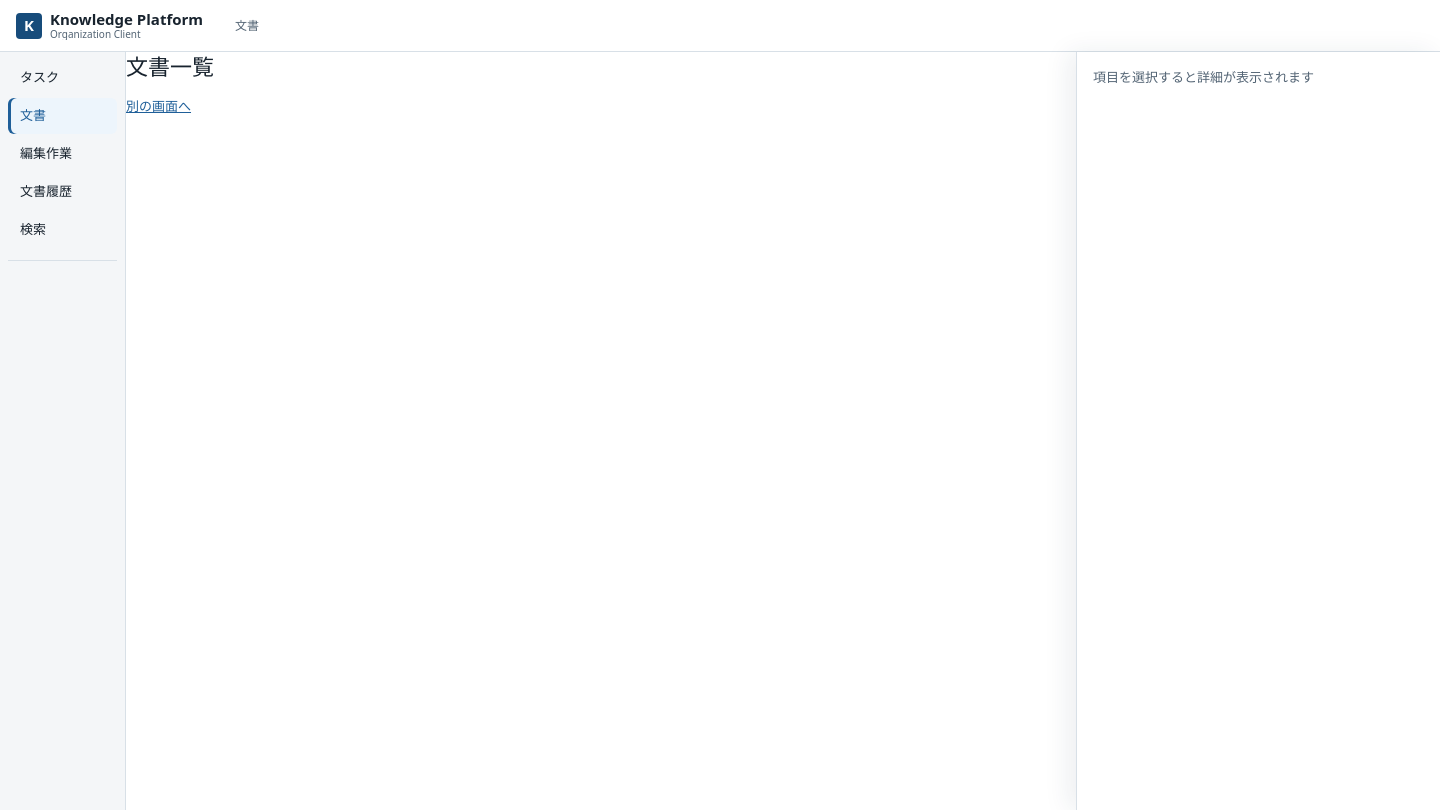
メニューのタスク・検索で移動でき、移動しても判定を取り直さない
The image size is (1440, 810).
Click the link "タスク". click: (40, 77)
box: [20, 68, 59, 86]
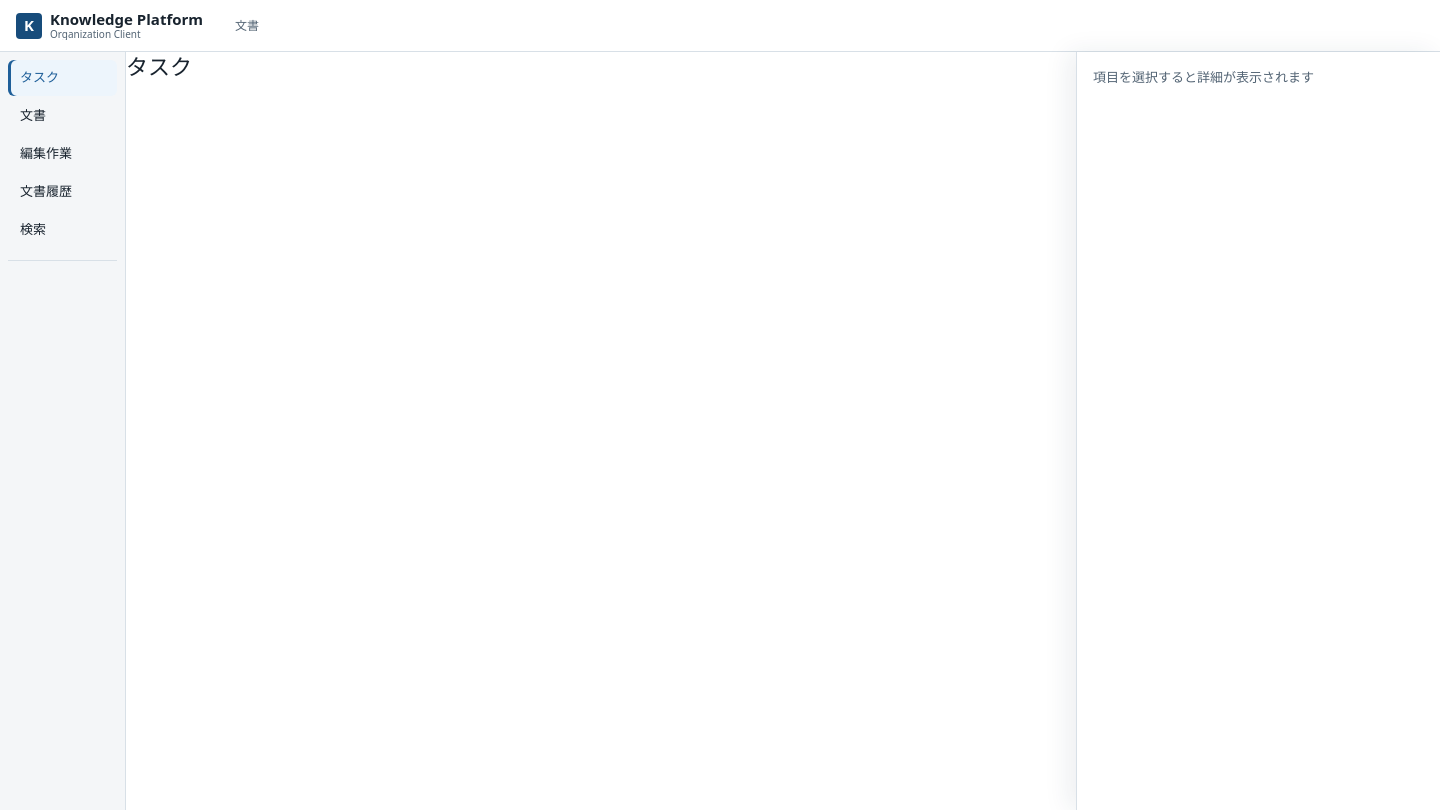
Expected: the heading "タスク" is shown, [126, 51, 192, 81]
Click the link "検索". click: (33, 229)
box: [20, 220, 46, 238]
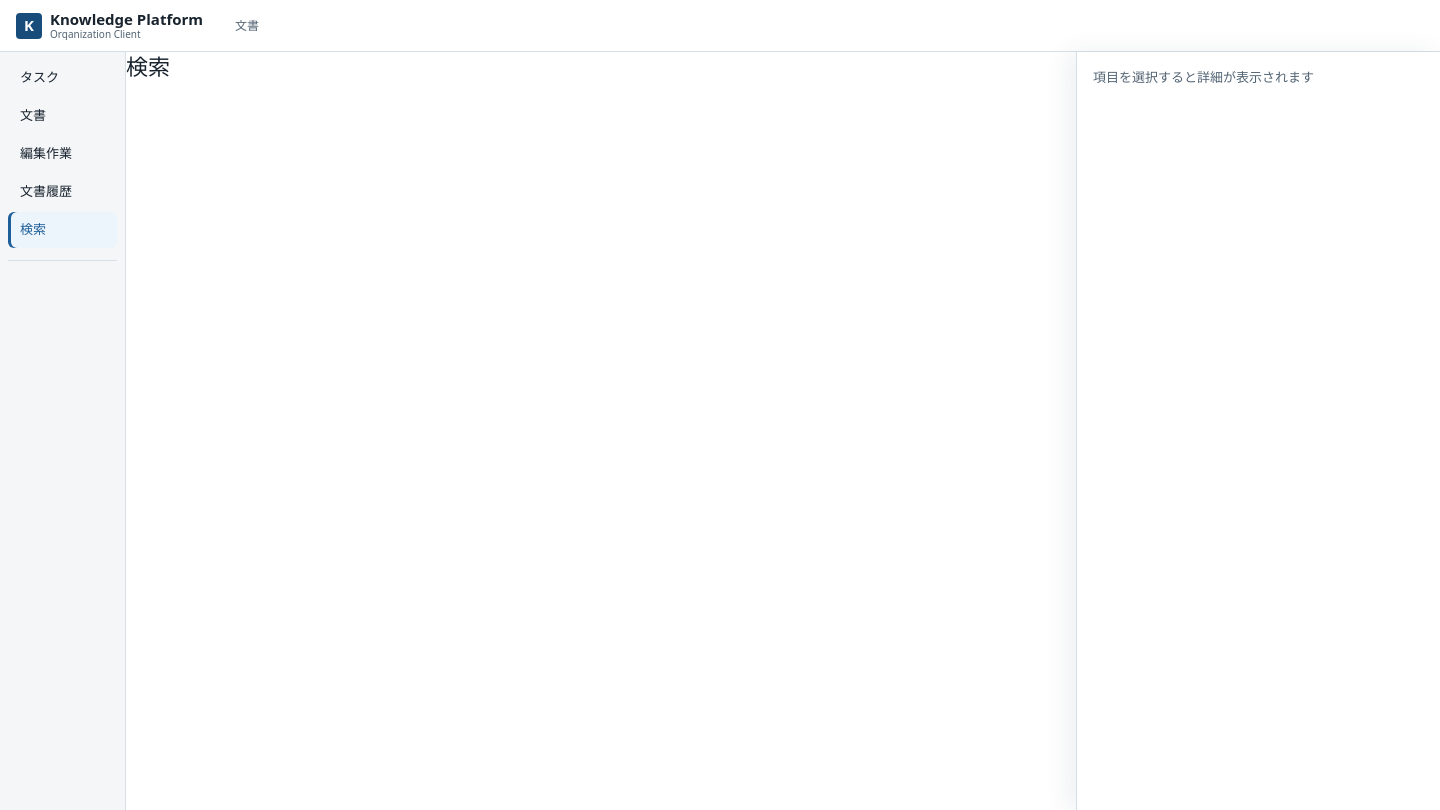
Expected: the heading "検索" is shown, [126, 51, 170, 81]
Click the link "文書". click: (33, 115)
box: [20, 106, 46, 124]
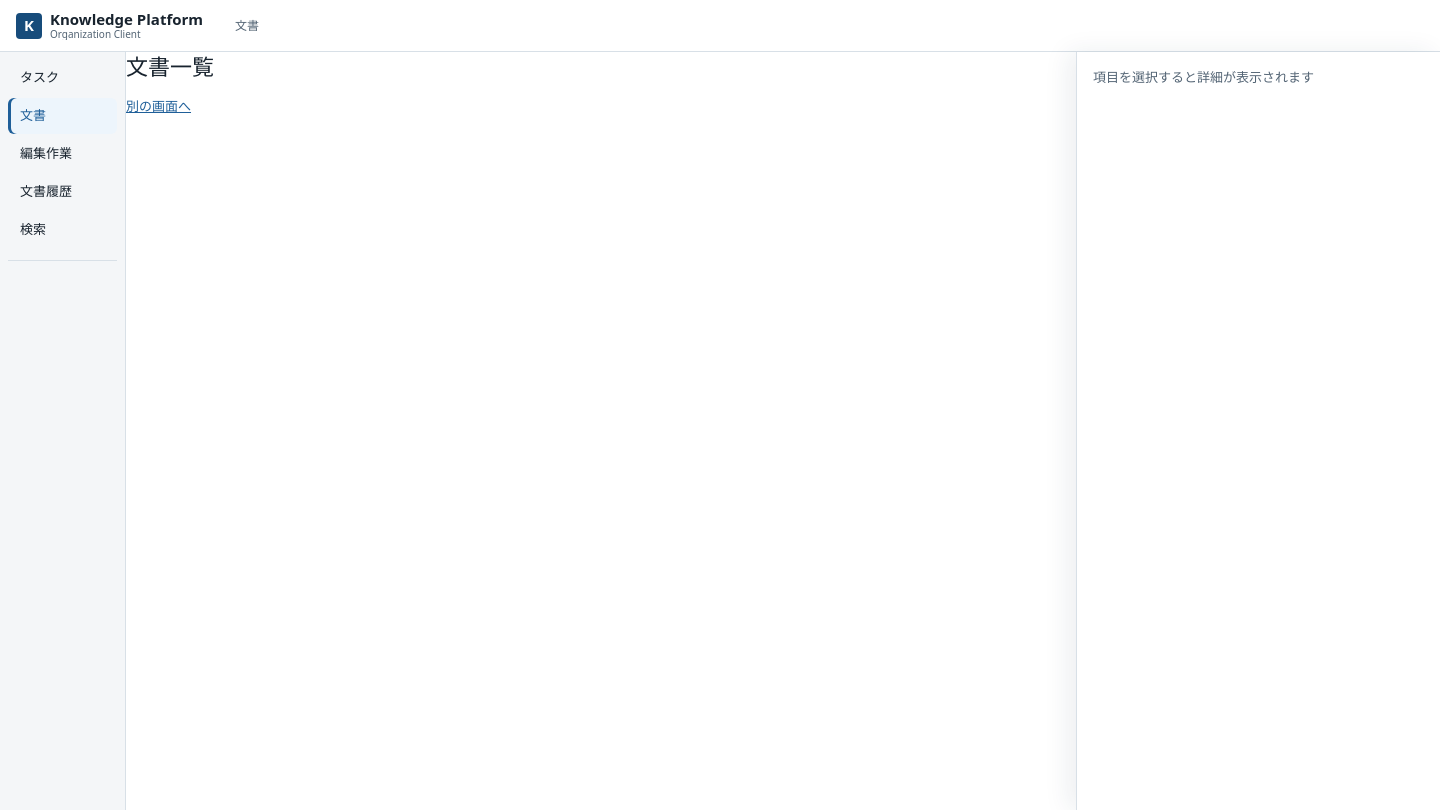
Expected: the heading "文書一覧" is shown, [126, 51, 214, 81]
Click the link "別の画面へ". click: (158, 106)
box: [126, 97, 191, 115]
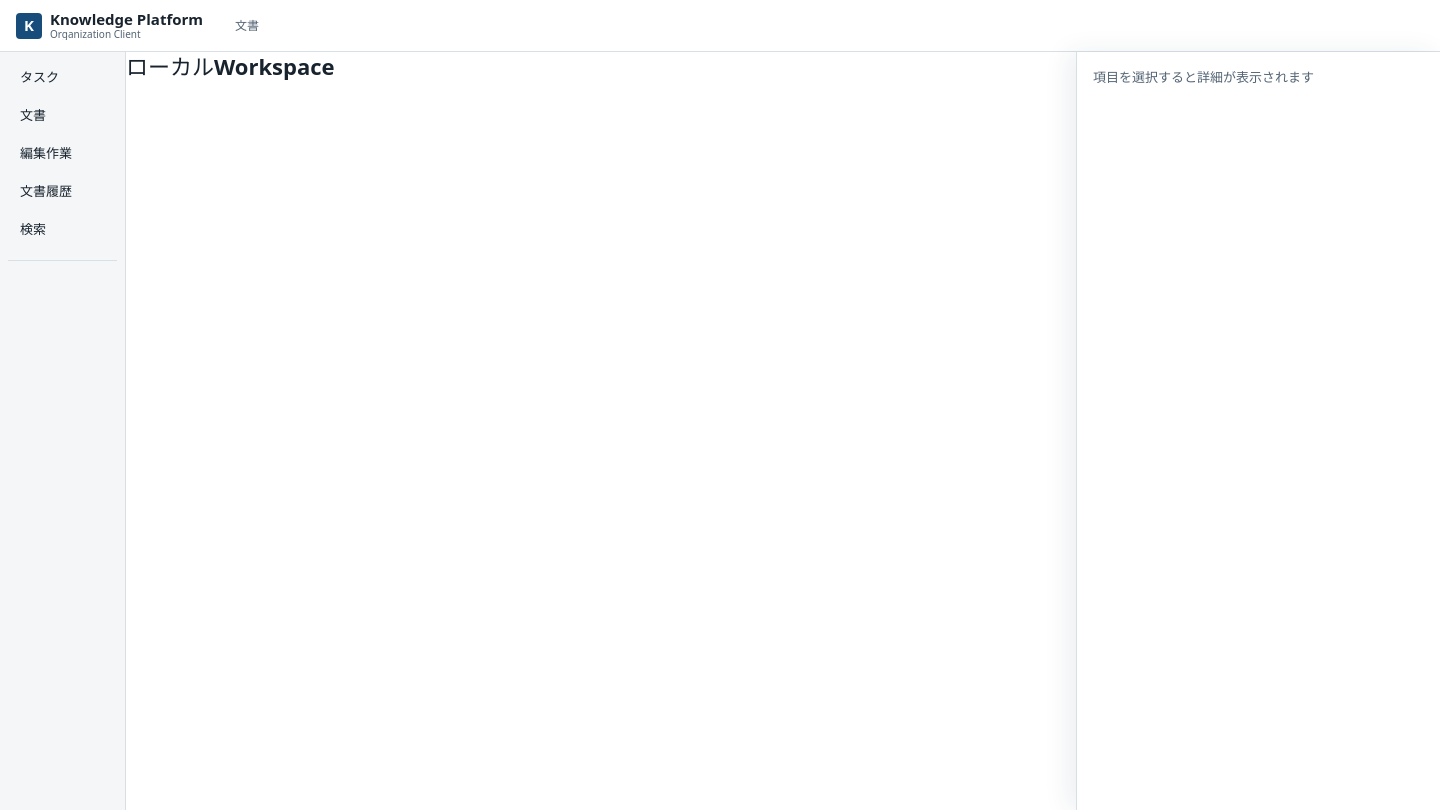
Expected: the heading "ローカルWorkspace" is shown, [126, 51, 334, 81]
